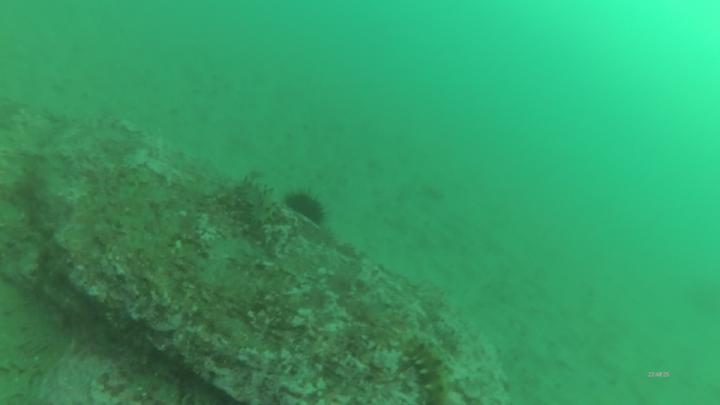echinus: (281, 188, 330, 232)
holothurian: (230, 175, 297, 264), (397, 332, 456, 405)
